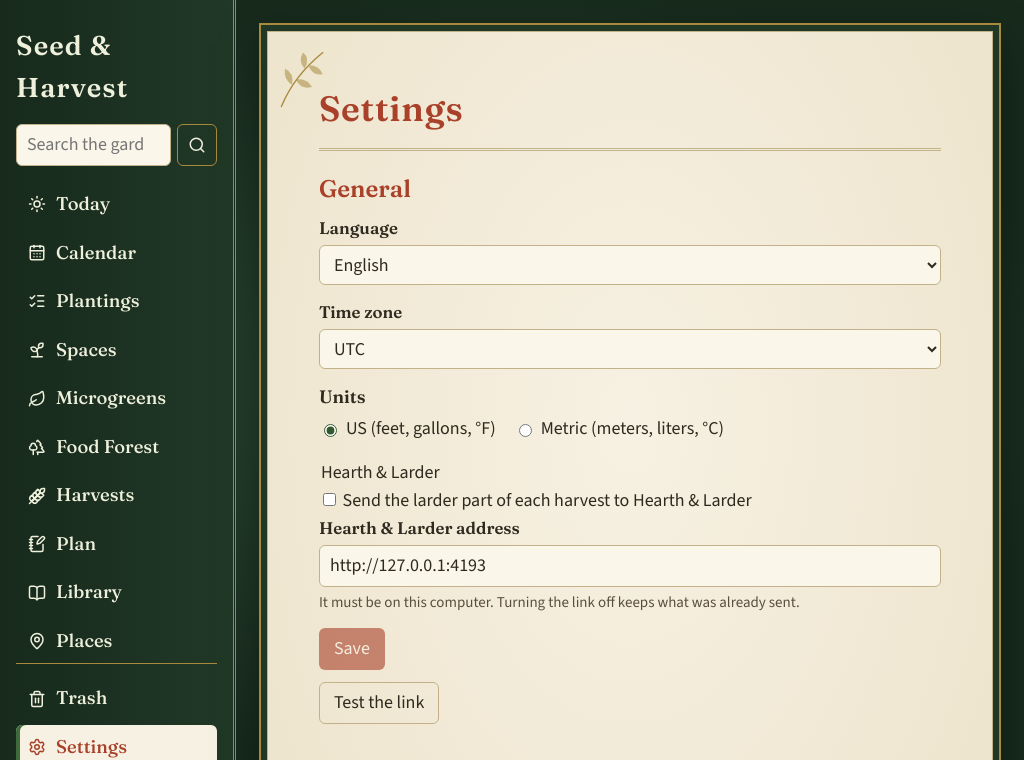
Test: Settings › asks before leaving with an unsaved change
Select "Europe/Lisbon" in the dropdown labelled "Time zone" at [630, 349], box [319,329,941,369]
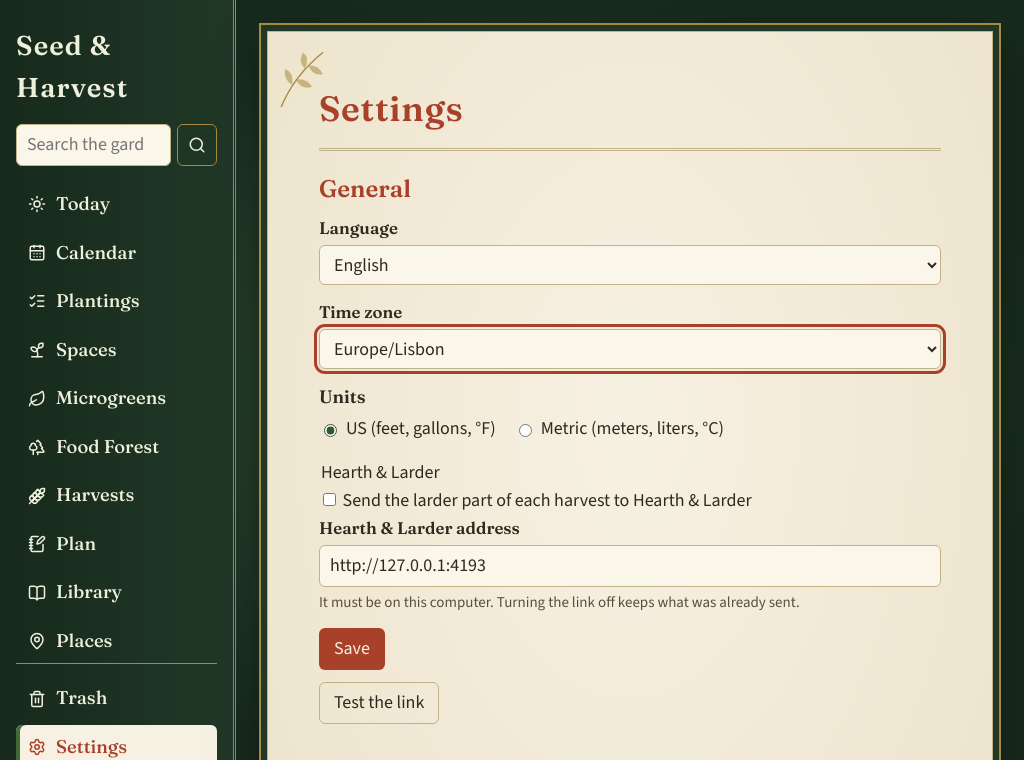
Click the link "Today" at [69, 204], box [28,192,110,215]
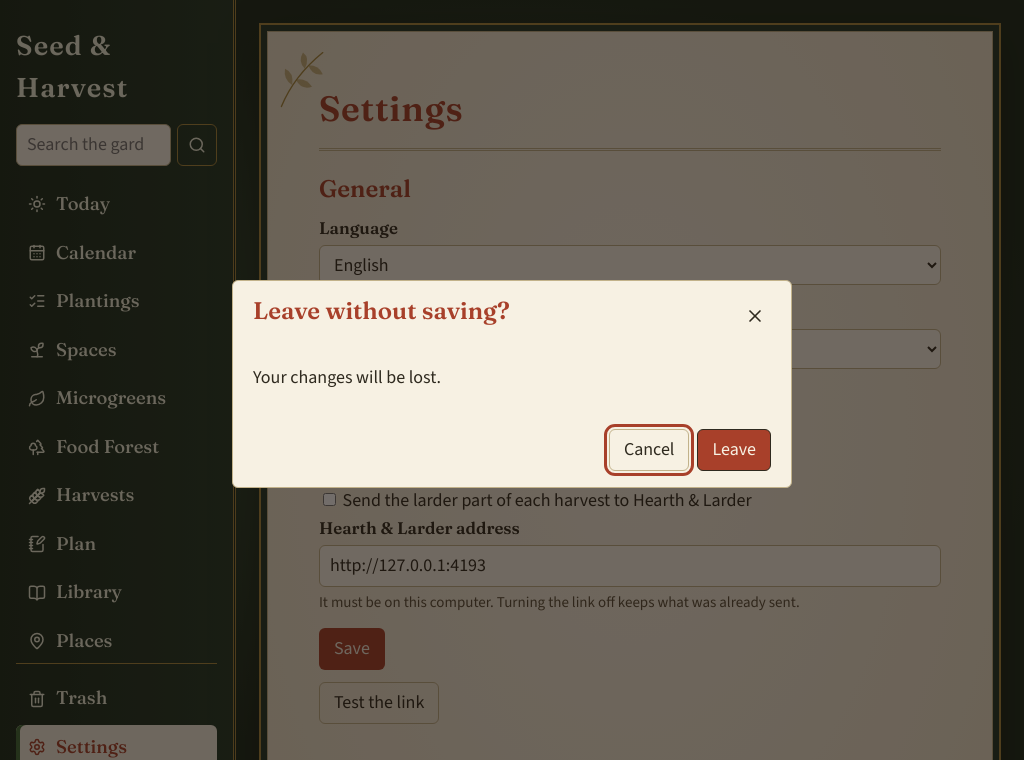
Expected: the heading "Leave without saving?" is shown, [253,297,510,326]
